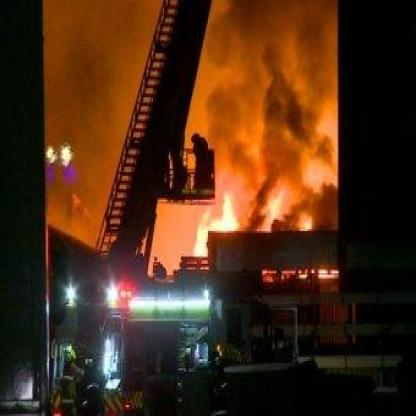fire: (190, 187, 240, 260), (259, 181, 317, 240)
